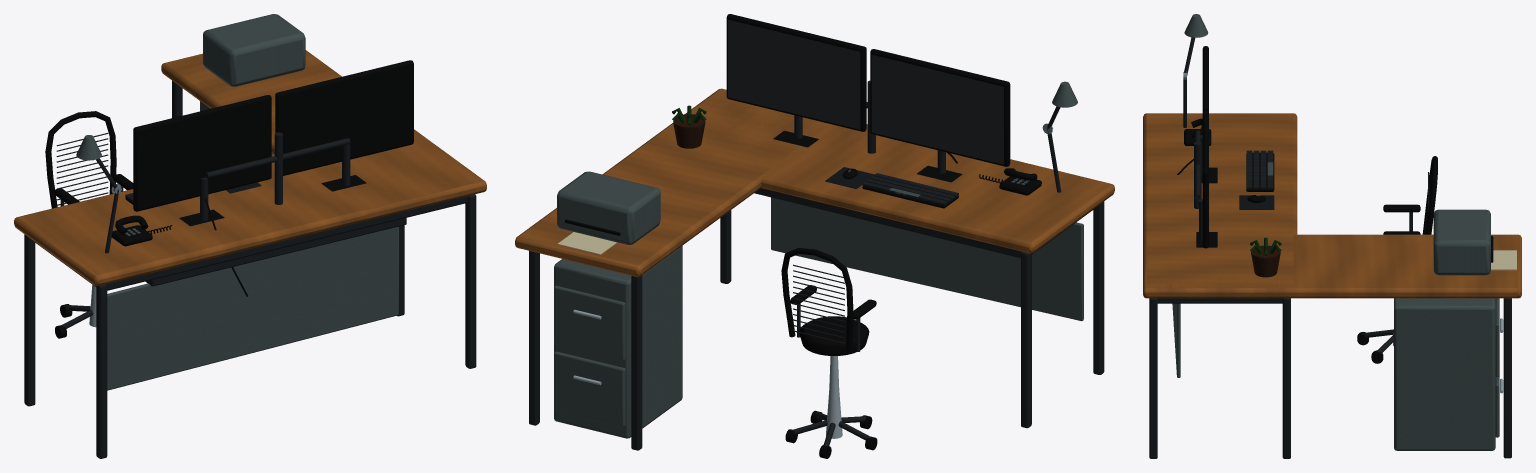
The model's file is JobOfficeDesk.gltf.
3 views of the same model, side by side, from view 1: azimuth 30°, elevation 25°; view 2: azimuth 150°, elevation 25°; view 3: azimuth 270°, elevation 25° (orthographic). The views are drawn at different scales.
Parts seen in each view (by area): view 1: JobOfficeDesk__Clutter, JobOfficeDesk__Body, JobOfficeDesk__Top, JobOfficeDesk, JobOfficeDesk__Chair; view 2: JobOfficeDesk__Top, JobOfficeDesk__Cabinet, JobOfficeDesk__Body, JobOfficeDesk__Clutter, JobOfficeDesk__Screen2, JobOfficeDesk__Screen, JobOfficeDesk, JobOfficeDesk__Chair; view 3: JobOfficeDesk__Top, JobOfficeDesk__Cabinet, JobOfficeDesk__Clutter, JobOfficeDesk, JobOfficeDesk__Chair, JobOfficeDesk__Body.
Boxes of the visible parts, x1,y1,x2,y2 form: JobOfficeDesk__Clutter: (76,14,413,296); JobOfficeDesk__Body: (32,196,468,390); JobOfficeDesk__Top: (14,50,486,285); JobOfficeDesk: (24,80,476,458); JobOfficeDesk__Chair: (45,111,133,338); JobOfficeDesk__Top: (515,88,1114,276); JobOfficeDesk__Cabinet: (554,245,682,438); JobOfficeDesk__Body: (754,188,1096,321); JobOfficeDesk__Clutter: (557,14,1077,254); JobOfficeDesk__Screen2: (728,19,860,129); JobOfficeDesk__Screen: (871,55,1003,164); JobOfficeDesk: (529,201,1104,450); JobOfficeDesk__Chair: (781,248,877,458); JobOfficeDesk__Top: (1143,113,1521,298); JobOfficeDesk__Cabinet: (1394,298,1503,450); JobOfficeDesk__Clutter: (1177,14,1516,277); JobOfficeDesk: (1149,298,1511,458); JobOfficeDesk__Chair: (1357,156,1437,363); JobOfficeDesk__Body: (1157,298,1282,377).
Size of the model in its own units: 1.68 by 1.23 by 1.51.
2 materials, 1 textured.
